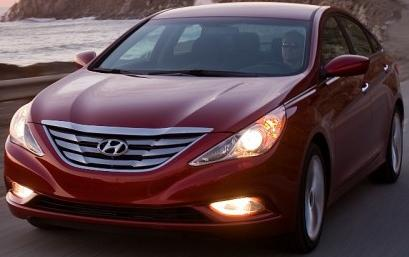front_view: (4, 90, 301, 242)
headlight: (186, 106, 289, 170)
